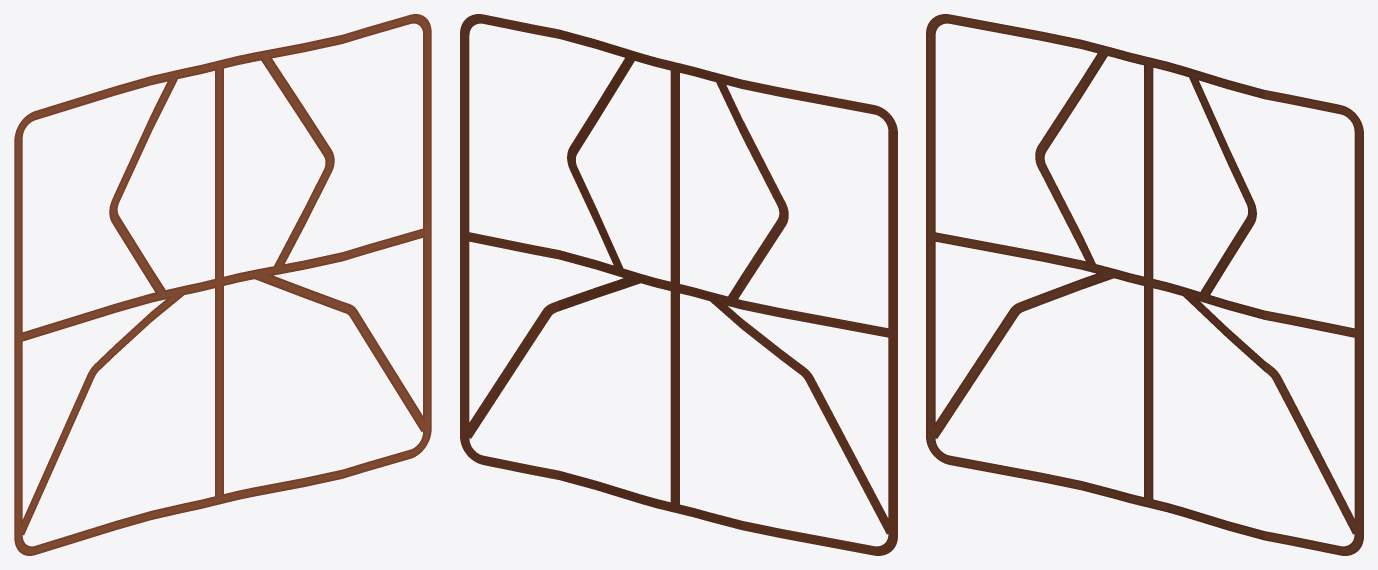
File: citrus_farm.obj
The picture shows the model from 3 angles, left to right: view 1: azimuth 30°, elevation 25°; view 2: azimuth 150°, elevation 25°; view 3: azimuth 330°, elevation 25°; orthographic projection.
Visible parts, largest first — view 1: perimeter_surface, perimeter_earth, cross_surface, main_surface, main_earth, cross_earth, southeast_surface, southwest_surface, northeast_surface, northwest_surface, southwest_earth, southeast_earth (+2 smaller); view 2: perimeter_earth, main_earth, cross_earth, southwest_earth, southeast_earth, northwest_earth, northeast_earth; view 3: perimeter_surface, perimeter_earth, cross_surface, main_surface, cross_earth, main_earth, southwest_surface, southeast_surface, northwest_surface, northeast_surface, southwest_earth, southeast_earth (+2 smaller).
Part boxes in pixels (x1,y1,x2,y2): perimeter_surface: (16,16,429,553); perimeter_earth: (14,14,431,555); cross_surface: (216,67,221,497); main_surface: (20,230,425,339); main_earth: (21,228,424,341); cross_earth: (215,66,223,497); southeast_surface: (254,271,427,430); southwest_surface: (18,289,184,534); northeast_surface: (263,56,332,270); northwest_surface: (111,77,176,296); southwest_earth: (21,287,185,535); southeast_earth: (253,270,424,431); perimeter_earth: (460,14,897,555); main_earth: (469,232,888,337); cross_earth: (670,70,679,504); southwest_earth: (710,301,888,534); southeast_earth: (469,278,640,438); northwest_earth: (716,82,788,298); northeast_earth: (567,58,634,268); perimeter_surface: (928,16,1361,553); perimeter_earth: (926,14,1363,555); cross_surface: (1146,63,1151,500); main_surface: (933,234,1357,336); cross_earth: (1144,63,1153,501); main_earth: (933,232,1356,337); southwest_surface: (931,270,1113,437); southeast_surface: (1183,290,1358,533); northwest_surface: (1037,51,1106,268); northeast_surface: (1190,75,1254,298); southwest_earth: (933,268,1114,438); southeast_earth: (1182,288,1356,534).
Bounding box in the file's own units: 572 × 572 × 19.3.
